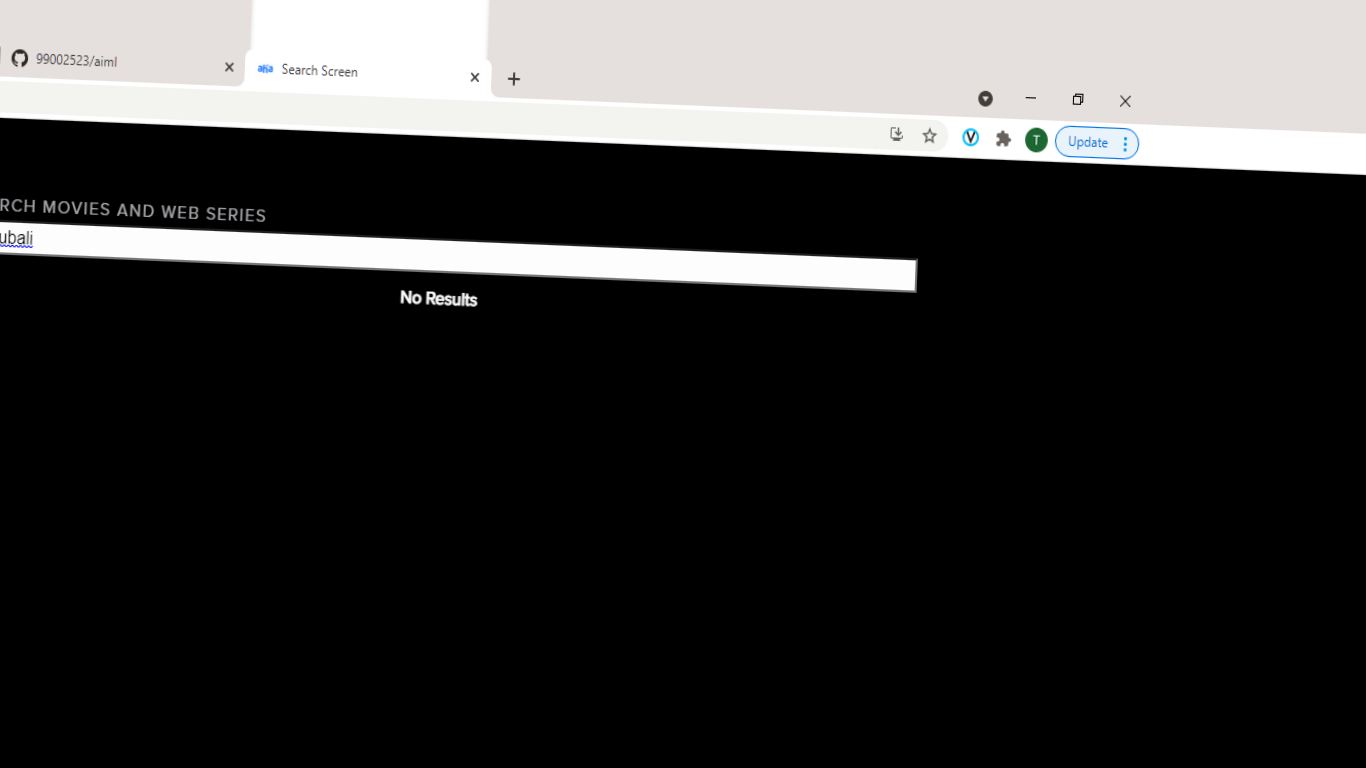noresultsfound: (372, 272, 519, 348)
searchtextbox: (1, 173, 931, 322)
